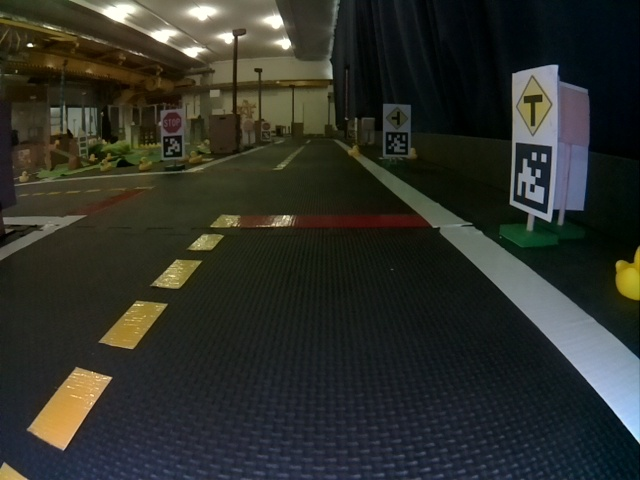Duckie: (616, 246, 639, 299), (139, 157, 152, 170), (189, 151, 202, 163), (348, 145, 360, 156), (100, 161, 110, 171), (20, 172, 29, 182), (89, 154, 97, 162)
Intersection sign: (516, 75, 552, 137), (386, 106, 409, 129)
QR code: (513, 142, 552, 214), (385, 131, 409, 156), (162, 135, 183, 158)
Stop sign: (162, 112, 182, 132)
